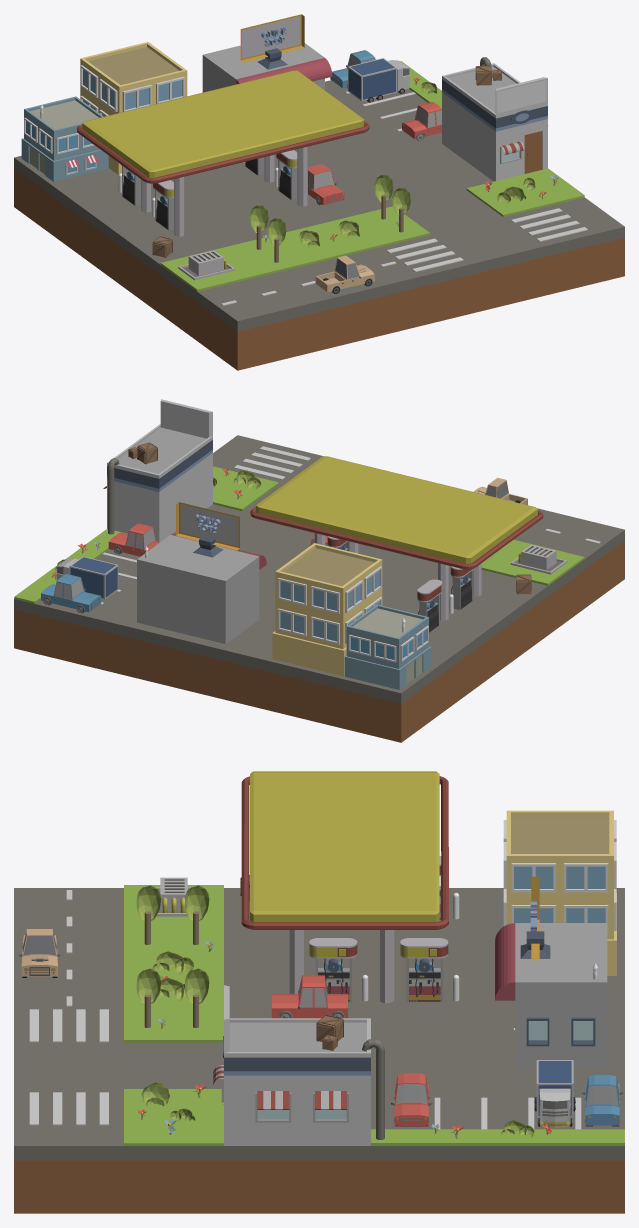
Rendered from gas_station.glb.
3 renders of one model, top to bottom at view 1: azimuth 30°, elevation 25°; view 2: azimuth 150°, elevation 25°; view 3: azimuth 270°, elevation 25°, orthographic. The views are drawn at different scales.
Parts seen in each view (by area): view 1: Cube_Cube.001_5fca90, Cube_Cube.001_a165f9, Cube.005_Cube.006, Cube.001_Cube.002, Cube.128_Cube.129_33b3fd, Cube.002_Cube.003, zBuildingBlueSmall_Cube.133_ee8cf7, Cube.126_Cube.007_d62f80, zBuildingTanMed_Cube.134_c3ae9b, zzzzThething_Cylinder.004, zBuildingTanMed_Cube.134_1bf66f, Cube.128_Cube.129 (+20 smaller); view 2: Cube_Cube.001_5fca90, Cube_Cube.001_a165f9, Cube.005_Cube.006, Cube.126_Cube.007_d62f80, Cube.128_Cube.129_33b3fd, zBuildingTanMed_Cube.134_c3ae9b, zBuildingBlueSmall_Cube.133_ee8cf7, zBuildingTanMed_Cube.134_2acf65, zzzzThething_Cylinder.004, zBuildingTanMed_Cube.134_1bf66f, zBuildingTanMed_Cube.134_effa1b, Cube.001_Cube.002 (+16 smaller); view 3: Cube_Cube.001_5fca90, Cube_Cube.001_a165f9, Cube.005_Cube.006, Cube.126_Cube.007_d62f80, Cube.001_Cube.002, Cube.128_Cube.129_33b3fd, Cube.002_Cube.003, zBuildingTanMed_Cube.134_c3ae9b, zzzzThething_Cylinder.004, Cube.132_Cube.136, zBuildingTanMed_Cube.134_1bf66f, Cube.128_Cube.129 (+27 smaller).
Part boxes in pixels (left/top/right/bottom): Cube_Cube.001_5fca90: left=14, top=80, right=624, bottom=331; Cube_Cube.001_a165f9: left=14, top=168, right=624, bottom=370; Cube.005_Cube.006: left=82, top=70, right=364, bottom=177; Cube.001_Cube.002: left=160, top=206, right=429, bottom=291; Cube.128_Cube.129_33b3fd: left=442, top=63, right=547, bottom=181; Cube.002_Cube.003: left=466, top=168, right=584, bottom=216; zBuildingBlueSmall_Cube.133_ee8cf7: left=21, top=96, right=108, bottom=181; Cube.126_Cube.007_d62f80: left=202, top=43, right=324, bottom=92; zBuildingTanMed_Cube.134_c3ae9b: left=80, top=42, right=187, bottom=174; zzzzThething_Cylinder.004: left=77, top=121, right=369, bottom=183; zBuildingTanMed_Cube.134_1bf66f: left=88, top=47, right=179, bottom=84; Cube.128_Cube.129: left=448, top=66, right=541, bottom=173; Cube_Cube.001_5fca90: left=14, top=435, right=624, bottom=703; Cube_Cube.001_a165f9: left=14, top=540, right=624, bottom=742; Cube.005_Cube.006: left=256, top=456, right=537, bottom=563; Cube.126_Cube.007_d62f80: left=137, top=535, right=259, bottom=643; Cube.128_Cube.129_33b3fd: left=107, top=399, right=212, bottom=541; zBuildingTanMed_Cube.134_c3ae9b: left=272, top=543, right=382, bottom=676; zBuildingBlueSmall_Cube.133_ee8cf7: left=344, top=604, right=431, bottom=689; zBuildingTanMed_Cube.134_2acf65: left=277, top=566, right=382, bottom=644; zzzzThething_Cylinder.004: left=250, top=507, right=543, bottom=569; zBuildingTanMed_Cube.134_1bf66f: left=283, top=548, right=374, bottom=586; zBuildingTanMed_Cube.134_effa1b: left=280, top=570, right=379, bottom=641; Cube.001_Cube.002: left=481, top=539, right=584, bottom=585; Cube_Cube.001_5fca90: left=14, top=888, right=624, bottom=1160; Cube_Cube.001_a165f9: left=14, top=1160, right=624, bottom=1213; Cube.005_Cube.006: left=250, top=771, right=439, bottom=921; Cube.126_Cube.007_d62f80: left=515, top=923, right=607, bottom=1068; Cube.001_Cube.002: left=124, top=885, right=223, bottom=1042; Cube.128_Cube.129_33b3fd: left=224, top=985, right=370, bottom=1145; Cube.002_Cube.003: left=124, top=1089, right=223, bottom=1145; zBuildingTanMed_Cube.134_c3ae9b: left=506, top=810, right=616, bottom=975; zzzzThething_Cylinder.004: left=241, top=776, right=448, bottom=929; Cube.132_Cube.136: left=371, top=1129, right=624, bottom=1145; zBuildingTanMed_Cube.134_1bf66f: left=511, top=816, right=609, bottom=853; Cube.128_Cube.129: left=229, top=1022, right=366, bottom=1051.
Size of the model in its own units: 13.85 by 5 by 13.24.
